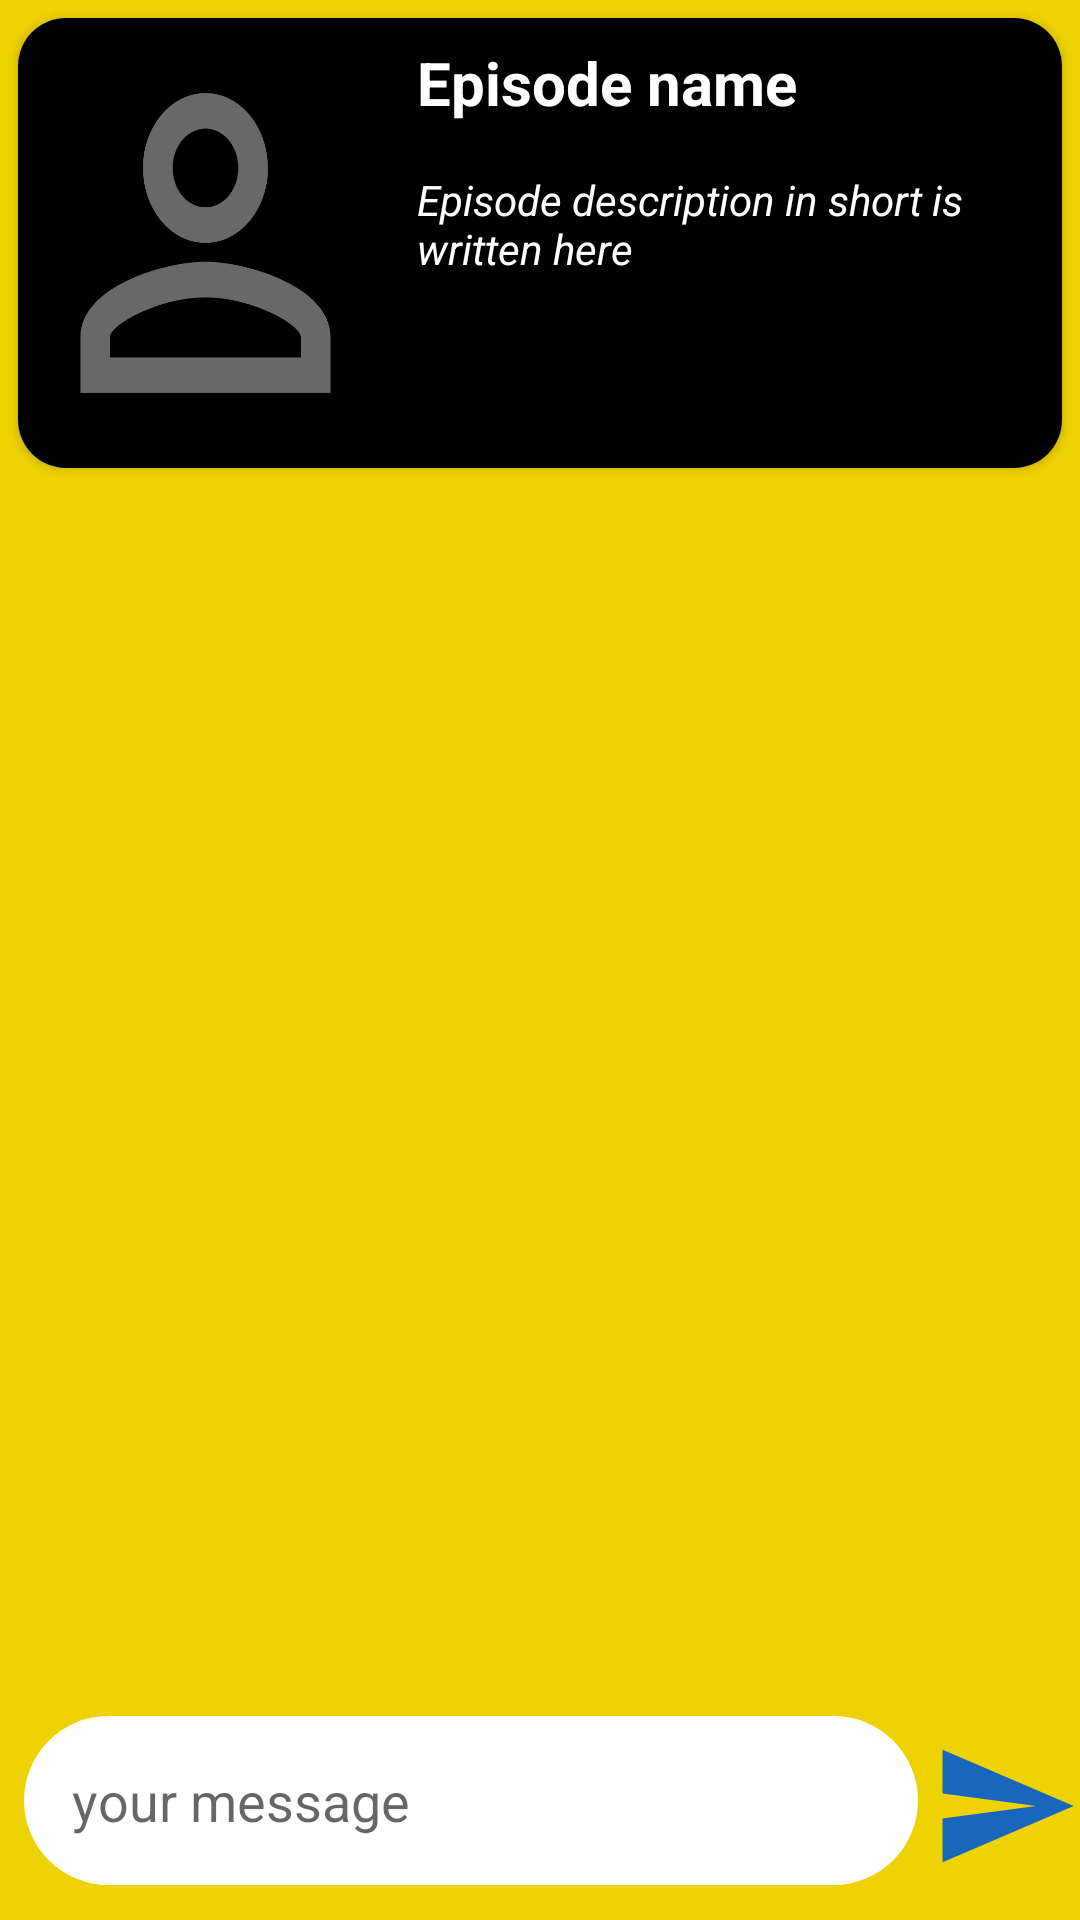

Icon click points for this 1080 x 1920 phone screenshot, format (x,y):
send: (1007,1806)
